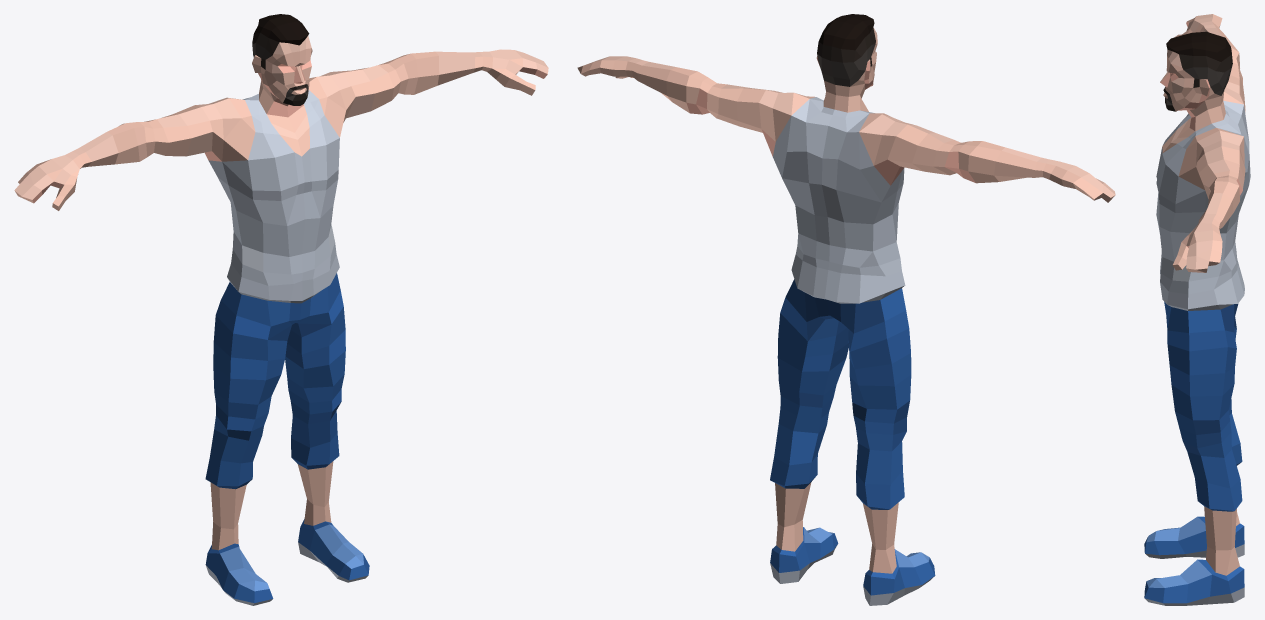
File: casual_Male_I-model.fbx
The picture shows the model from 3 angles, left to right: view 1: azimuth 30°, elevation 25°; view 2: azimuth 150°, elevation 25°; view 3: azimuth 270°, elevation 25°; orthographic projection. The views are drawn at different scales.
Visible parts, largest first — view 1: casual_Male_I; view 2: casual_Male_I; view 3: casual_Male_I.
Boxes of the visible parts, bbox=[...] form: casual_Male_I: bbox=[14, 14, 548, 605]; casual_Male_I: bbox=[577, 14, 1115, 605]; casual_Male_I: bbox=[1144, 14, 1250, 605].
Bounding box in the file's own units: 168 × 168 × 29.98.
1 material, 1 textured.
